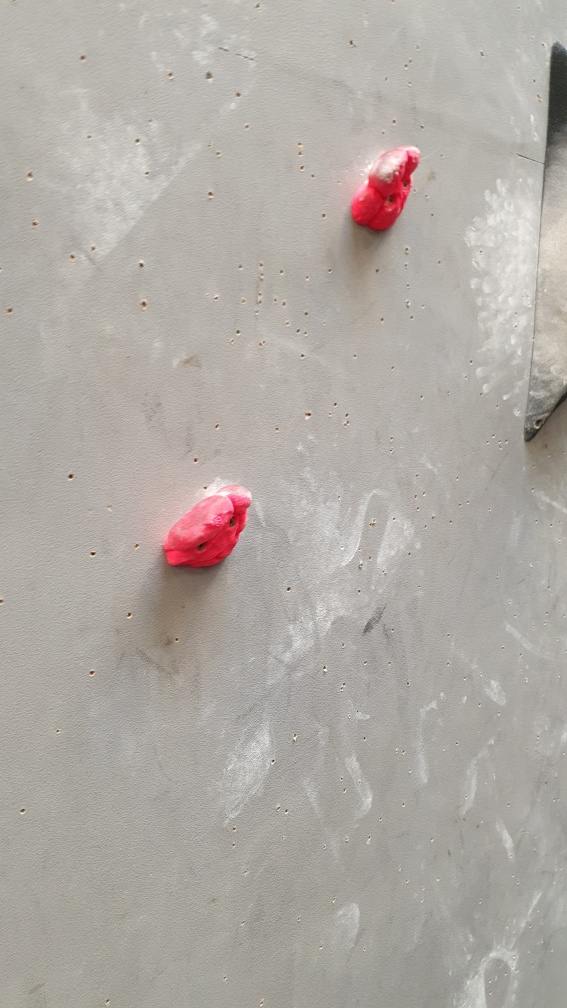Jug: (160, 482, 253, 574), (346, 144, 425, 241)
